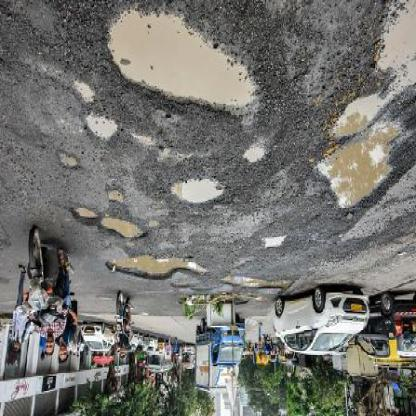pothole: (107, 11, 262, 122), (317, 95, 415, 216), (375, 2, 416, 90), (107, 255, 211, 285), (172, 177, 226, 210), (102, 217, 148, 245), (223, 276, 293, 294), (86, 115, 118, 145), (73, 82, 98, 107), (75, 207, 100, 229), (58, 151, 81, 174), (265, 236, 290, 254), (244, 149, 269, 166), (108, 193, 128, 207)
